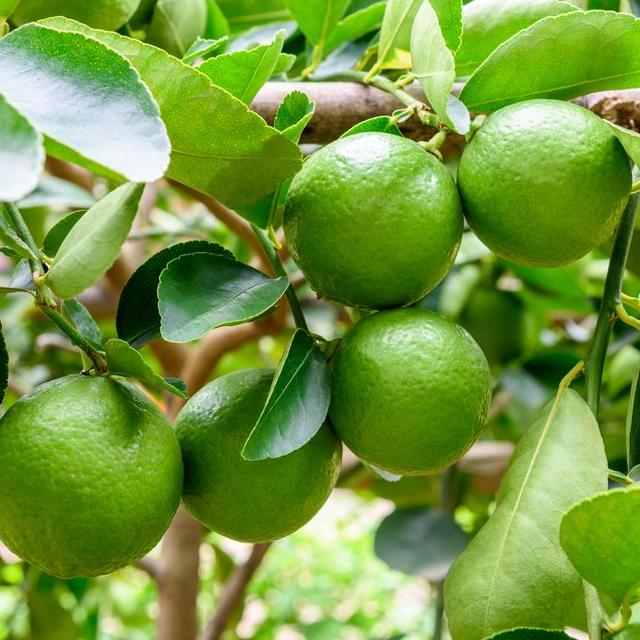lime: (0, 375, 184, 582), (173, 335, 340, 547), (277, 134, 462, 316), (457, 101, 634, 272), (328, 311, 499, 482)
